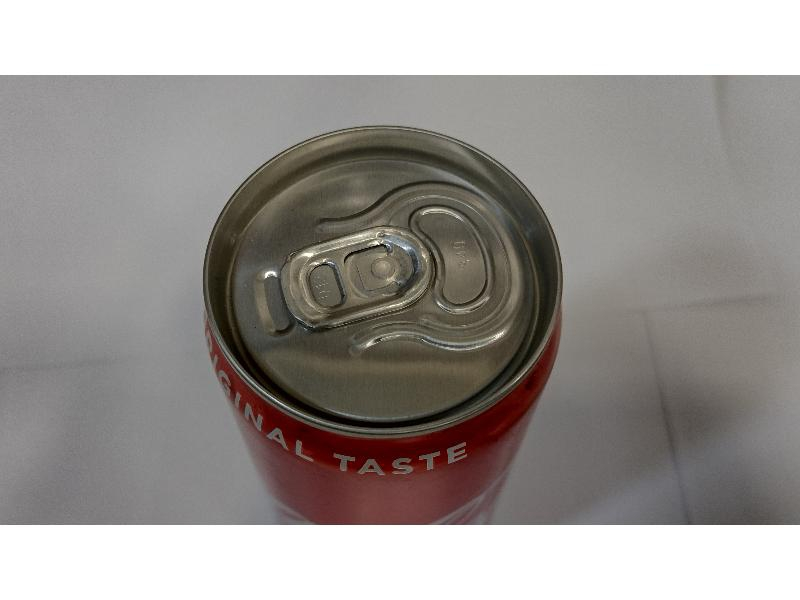can: (196, 115, 572, 521)
